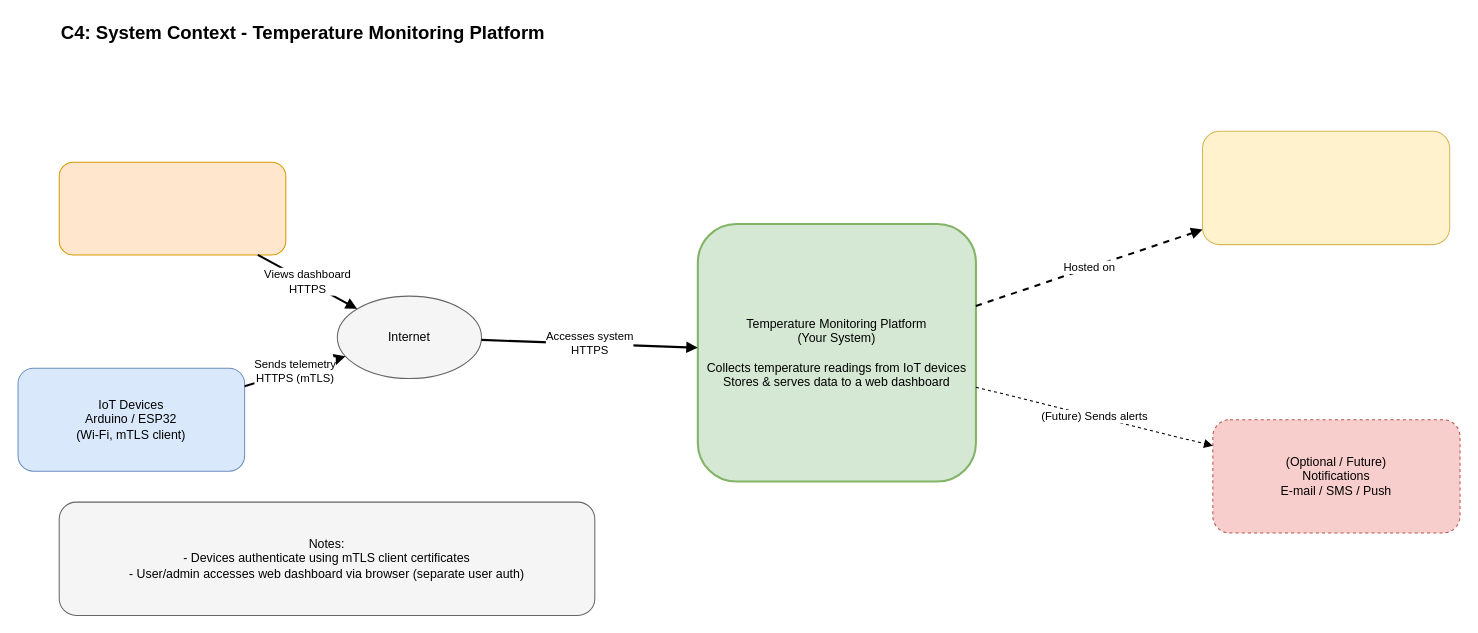
Some shapes in this 1478 by 633 pixel diagram are drawn without their labels. Each missing label, with the centre of its shape:
AWS (Hosting) EC2 instance: point (1325, 187)
User / Admin (Web Browser): point (172, 208)
